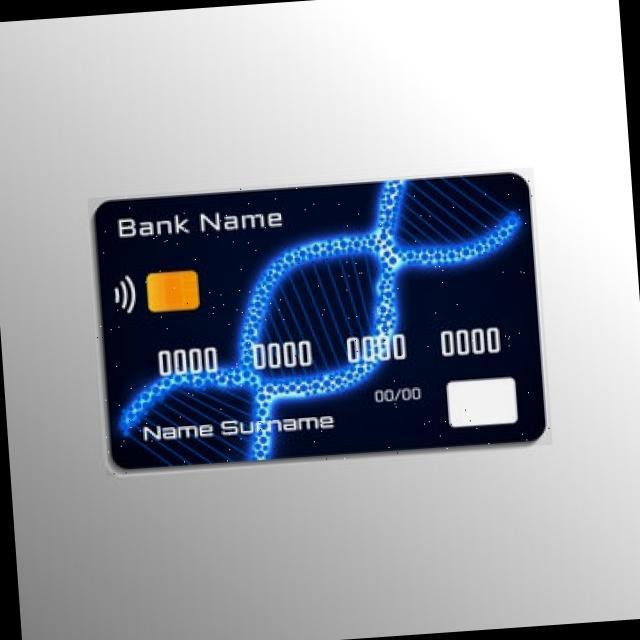payment_card: (90, 170, 547, 474)
